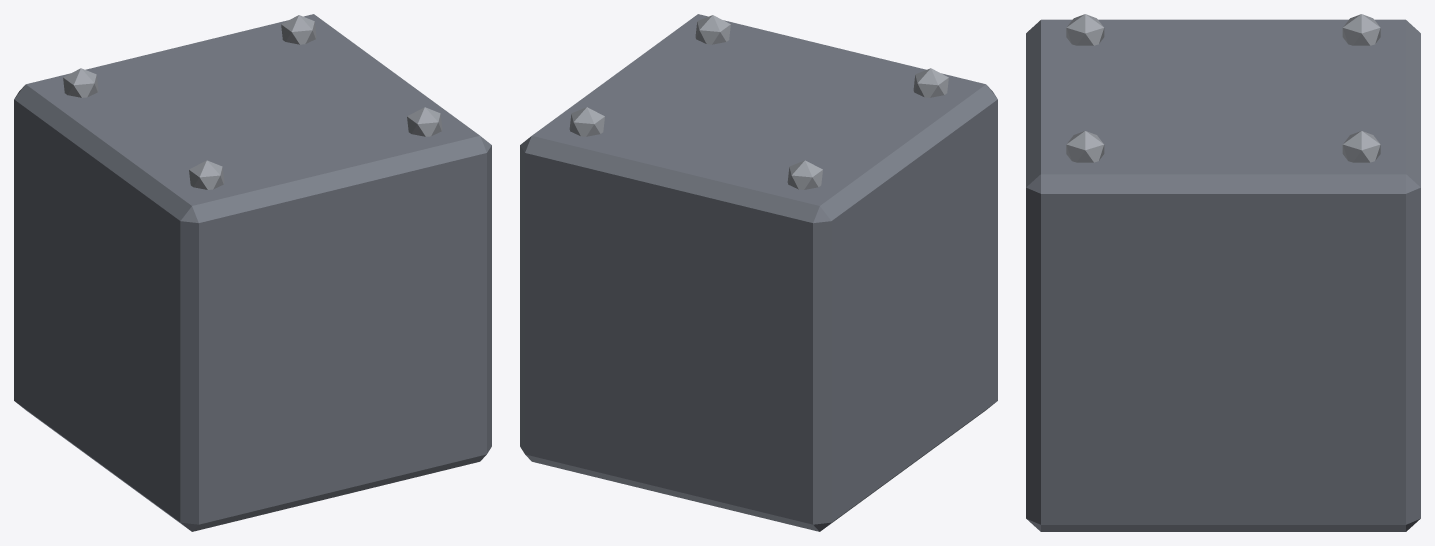
The model's file is IronPlate.fbx.
3 views of the same model, side by side, from view 1: azimuth 30°, elevation 25°; view 2: azimuth 150°, elevation 25°; view 3: azimuth 270°, elevation 25° (orthographic). The views are drawn at different scales.
Visible parts, largest first — view 1: IronPlate; view 2: IronPlate; view 3: IronPlate.
Part boxes in pixels (left/top/right/bottom): IronPlate: left=14, top=14, right=491, bottom=531; IronPlate: left=520, top=14, right=997, bottom=531; IronPlate: left=1026, top=14, right=1420, bottom=531.
Size of the model in its own units: 4 by 4.28 by 4.
1 material, 1 textured.
